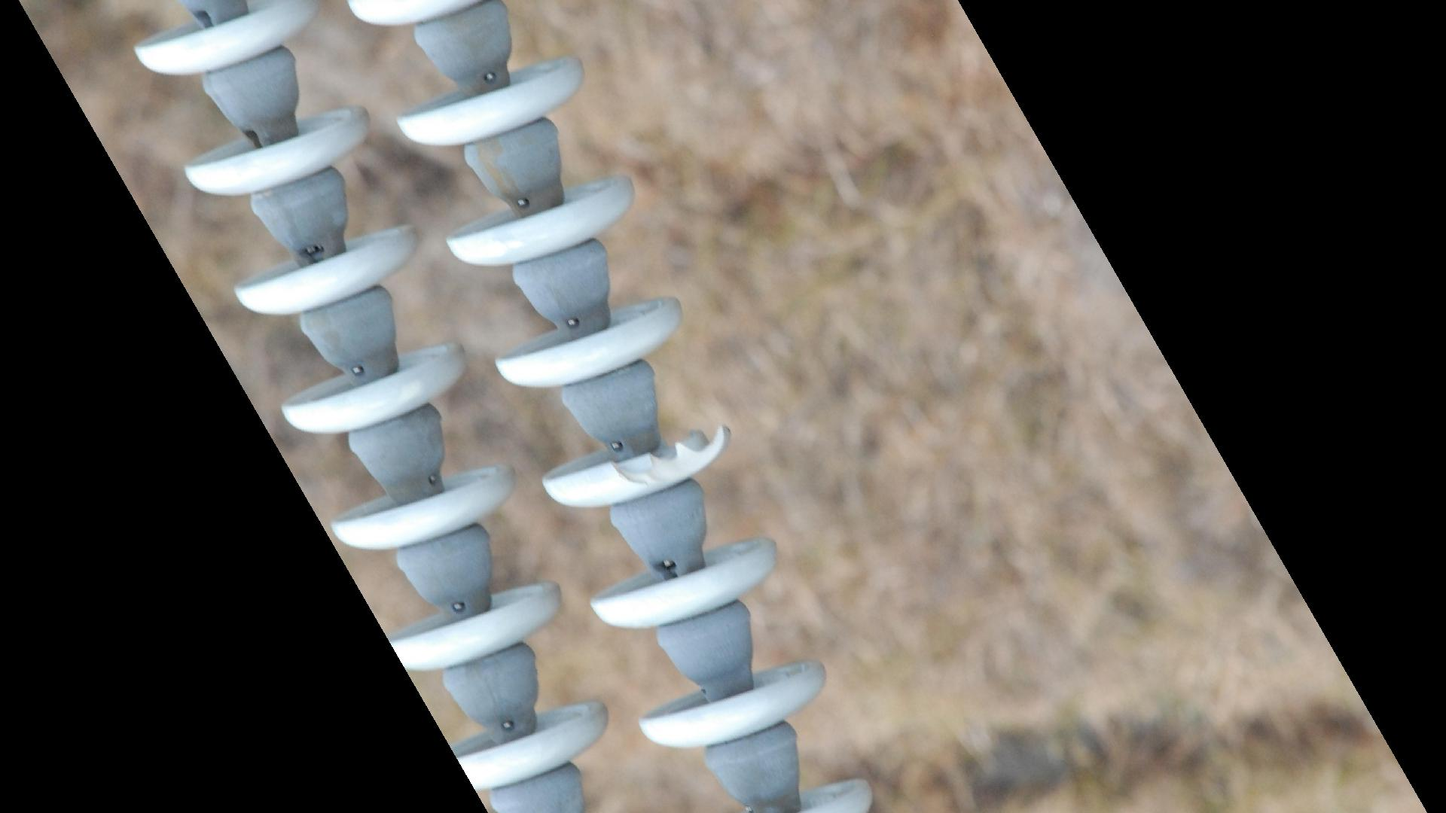insulator: (337, 1, 881, 813), (128, 1, 618, 813)
insulator_breakage: (602, 414, 736, 501)
